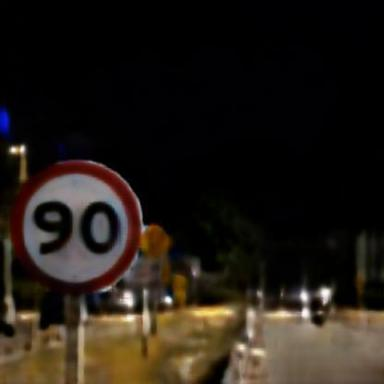Speed_limit_90: (11, 161, 142, 290)
